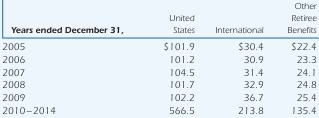table: (1, 0, 315, 115)
table column: (1, 0, 142, 115), (204, 0, 274, 115), (142, 0, 204, 115), (274, 0, 315, 115)
table column header: (1, 0, 315, 37)
table row: (1, 0, 315, 37), (1, 37, 315, 52), (1, 52, 315, 65), (1, 77, 315, 90), (1, 90, 315, 103), (1, 65, 315, 77), (1, 103, 315, 115)
